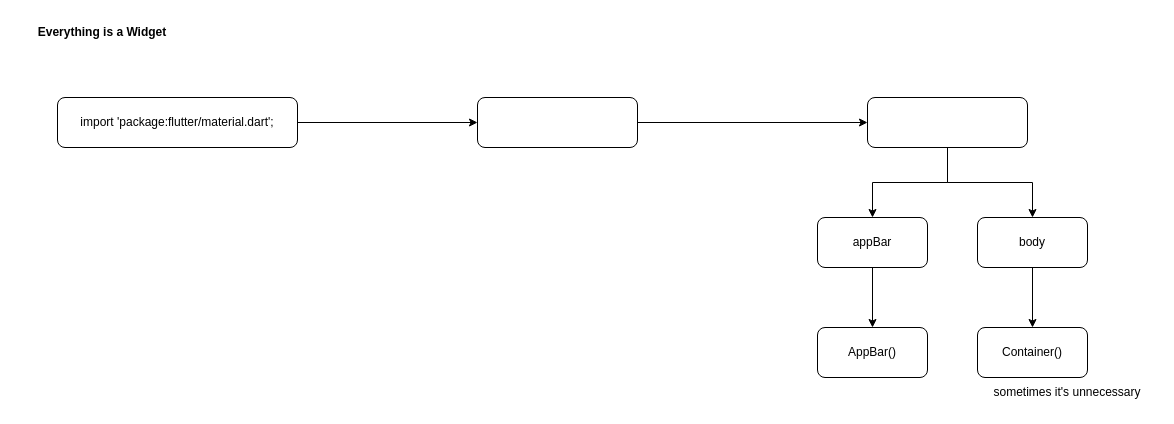
The diagram is 1174 pixels wide and 424 high, and some of its shapes have lost their labels. The shapes that lost their labels are listed below. From the top down, each one's centre as x and y in pixels, then its label:
At (557,122): "MaterialApp()".
At (947,122): "Scaffold()".
